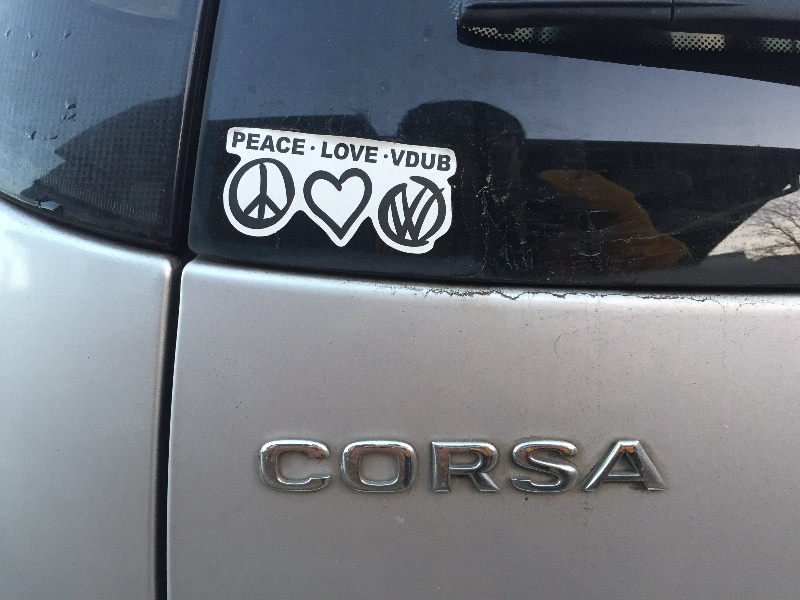text: (657, 439, 673, 495), (273, 439, 288, 495), (289, 439, 304, 495), (305, 439, 320, 495), (321, 439, 336, 495), (337, 439, 352, 495), (353, 439, 368, 495), (369, 439, 384, 495), (385, 439, 400, 495), (401, 439, 416, 495), (417, 439, 432, 495), (433, 439, 448, 495), (449, 439, 464, 495), (465, 439, 480, 495), (481, 439, 496, 495), (497, 439, 512, 495), (513, 439, 528, 495), (529, 439, 544, 495), (545, 439, 560, 495), (561, 439, 576, 495), (577, 439, 592, 495), (593, 439, 608, 495), (609, 439, 624, 495), (625, 439, 640, 495), (641, 439, 656, 495), (259, 439, 272, 495), (241, 131, 256, 157), (257, 131, 272, 157), (273, 131, 288, 157), (289, 131, 304, 157), (401, 149, 416, 173), (417, 149, 432, 173), (433, 149, 448, 173), (337, 141, 352, 164), (353, 141, 368, 164), (323, 141, 336, 164), (390, 149, 400, 173), (369, 141, 378, 164), (234, 131, 240, 157), (305, 131, 307, 157), (449, 149, 451, 173)
